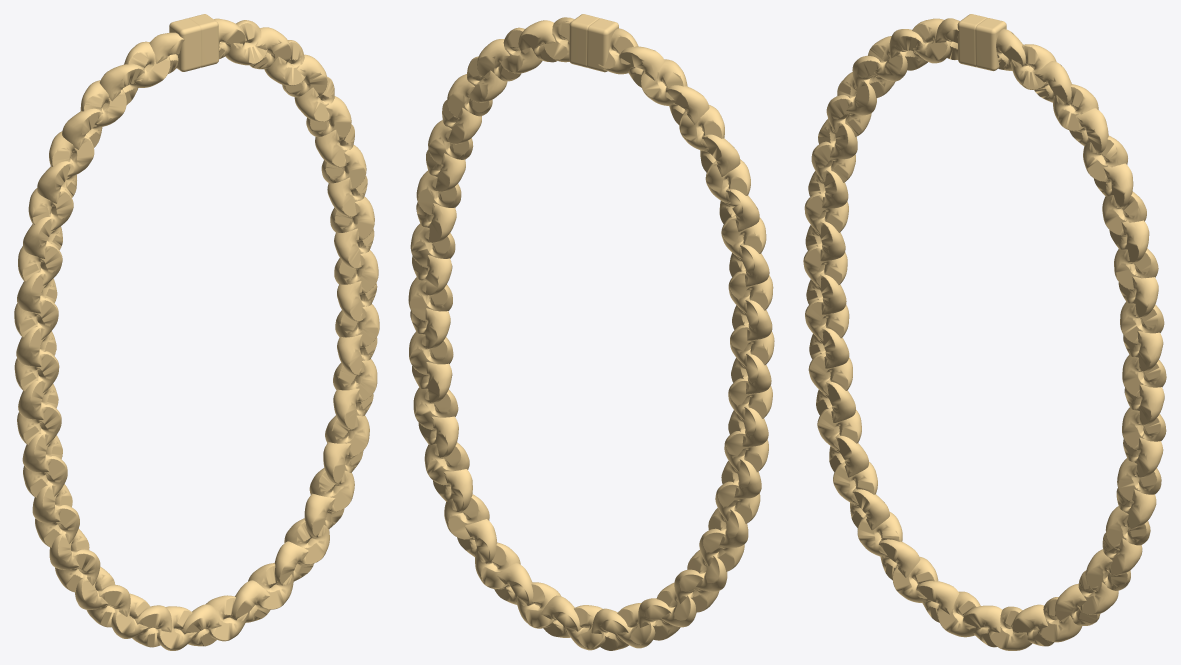
The model's file is chain-56-750751bb.2026-10-07.glb.
3 renders of one model, left to right at view 1: azimuth 30°, elevation 25°; view 2: azimuth 150°, elevation 25°; view 3: azimuth 330°, elevation 25°, orthographic.
Parts seen in each view (by area): view 1: chain, clasp; view 2: chain, clasp; view 3: chain, clasp.
Boxes of the visible parts, x1=… form: chain: x1=14, y1=18, x2=379, y2=650; clasp: x1=169, y1=14, x2=218, y2=71; chain: x1=408, y1=17, x2=774, y2=650; clasp: x1=569, y1=14, x2=618, y2=72; chain: x1=803, y1=18, x2=1166, y2=650; clasp: x1=957, y1=14, x2=1006, y2=71.
Bounding box in the file's own units: 0.1058 × 0.1761 × 0.00729.
